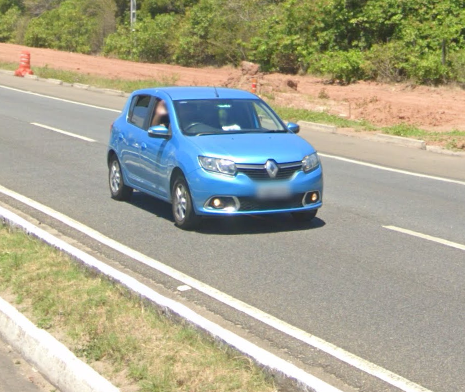car: (105, 82, 327, 233)
